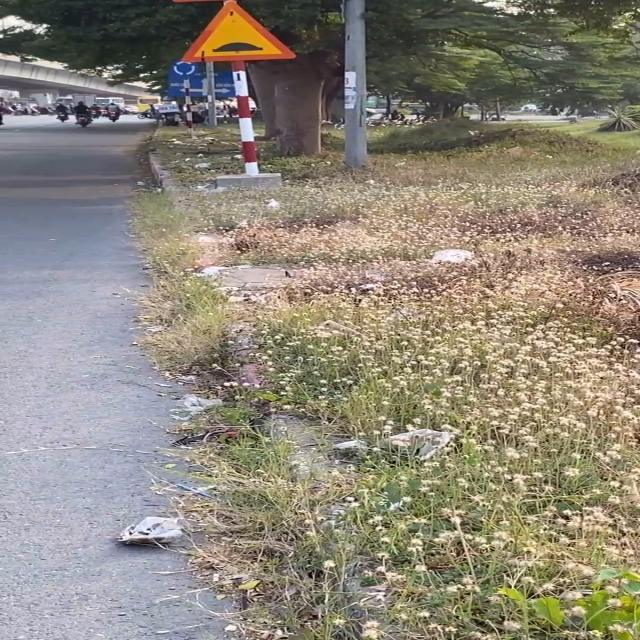221-duong-go-ghe: (177, 0, 296, 62)
303-noi-giao-nhau-chay-theo-vong-xuyen: (170, 60, 198, 76)
